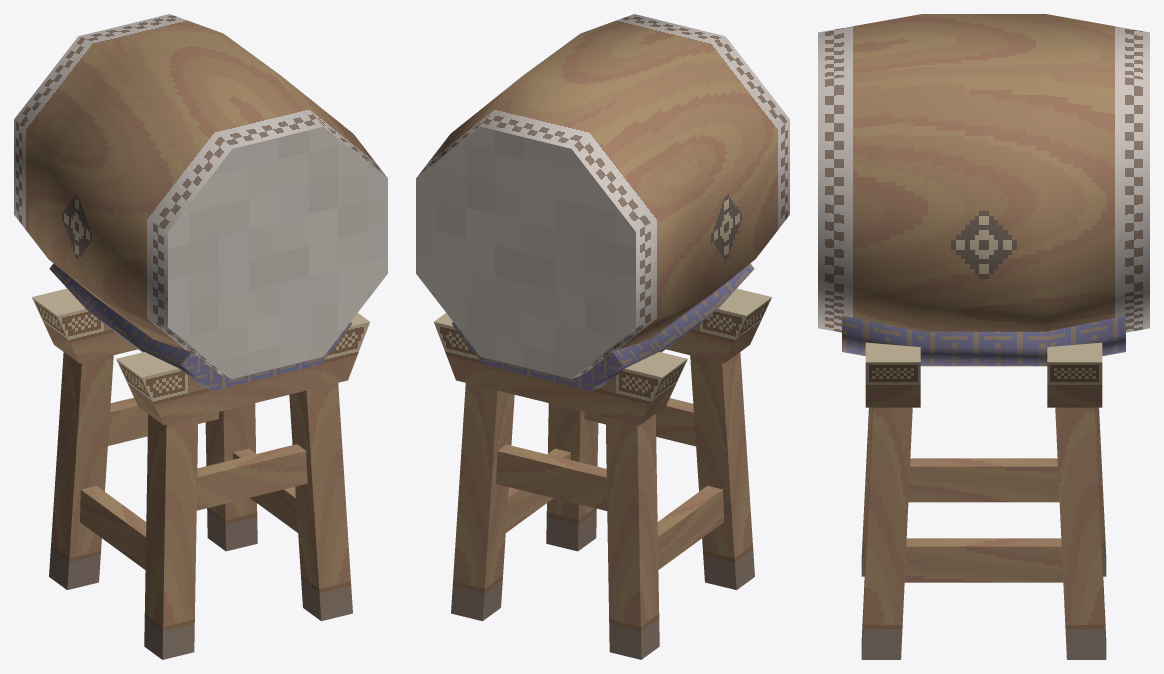
The model's file is 0163_Taiko_Drum.glb.
3 renders of one model, left to right at view 1: azimuth 30°, elevation 25°; view 2: azimuth 150°, elevation 25°; view 3: azimuth 270°, elevation 25°, orthographic. The views are drawn at different scales.
Parts seen in each view (by area): view 1: part_0; view 2: part_0; view 3: part_0.
Boxes of the visible parts, box(x1,y1,x2,y2) form: part_0: box(14, 14, 387, 659); part_0: box(416, 14, 789, 659); part_0: box(818, 14, 1149, 659).
Bounding box in the file's own units: 0.7795 × 1.59 × 0.84.
1 material, 1 textured.
